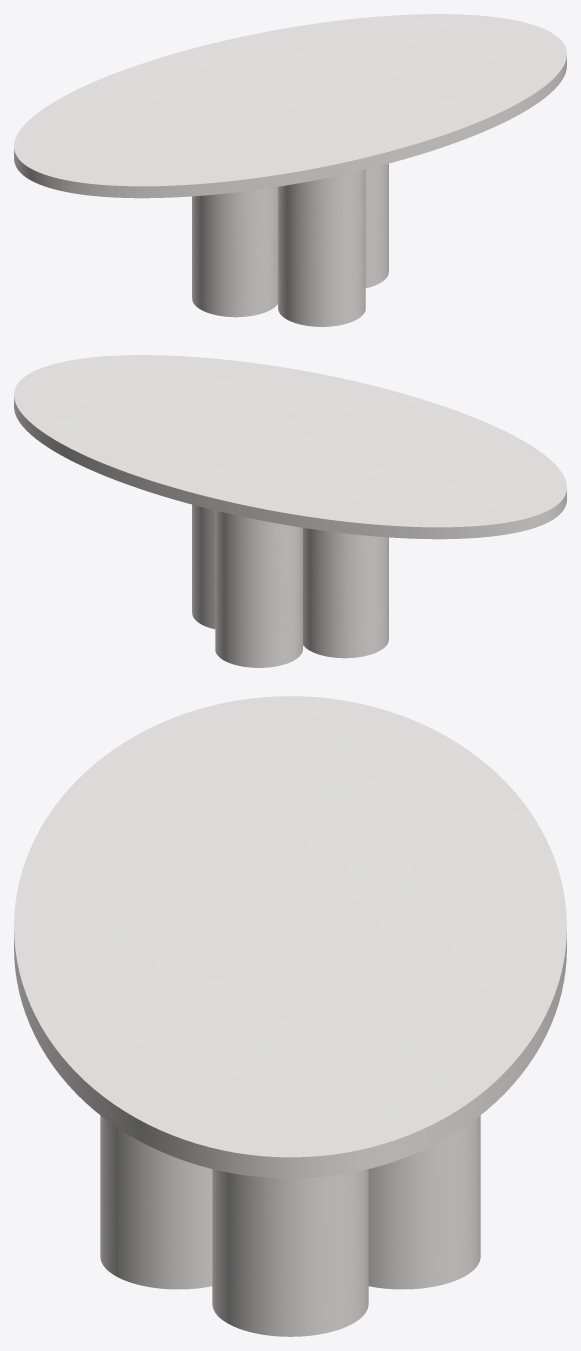
Rendered from purewhite_ellips_standard_secondtable.glb.
3 renders of one model, top to bottom at view 1: azimuth 30°, elevation 25°; view 2: azimuth 150°, elevation 25°; view 3: azimuth 270°, elevation 25°, orthographic. The views are drawn at different scales.
Visible parts, largest first — view 1: standard_ellips, secondtable; view 2: standard_ellips, secondtable; view 3: standard_ellips, secondtable.
Boxes of the visible parts, box(x1,y1,x2,y2) form: standard_ellips: box(14, 14, 566, 198); secondtable: box(192, 163, 388, 326); standard_ellips: box(14, 355, 566, 539); secondtable: box(192, 504, 388, 667); standard_ellips: box(14, 696, 566, 1178); secondtable: box(100, 1115, 480, 1336).
Bounding box in the file's own units: 7.5 × 2.5 × 3.8.
1 material, 1 textured.
